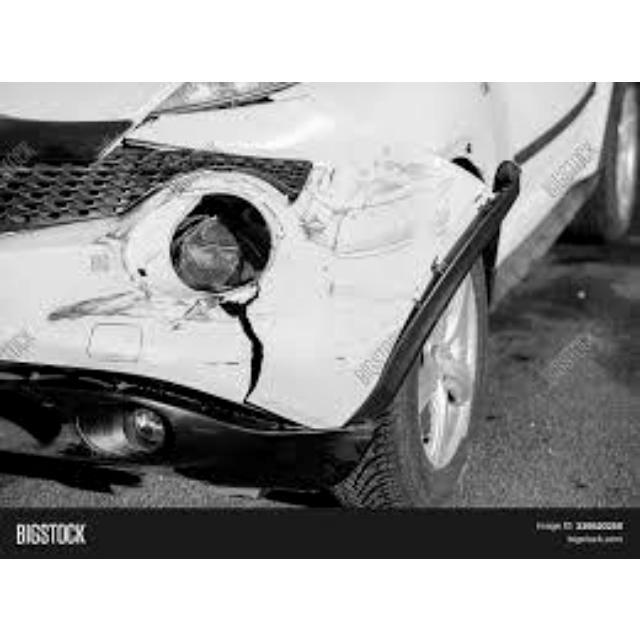front-bumper-dent: (0, 146, 526, 429)
